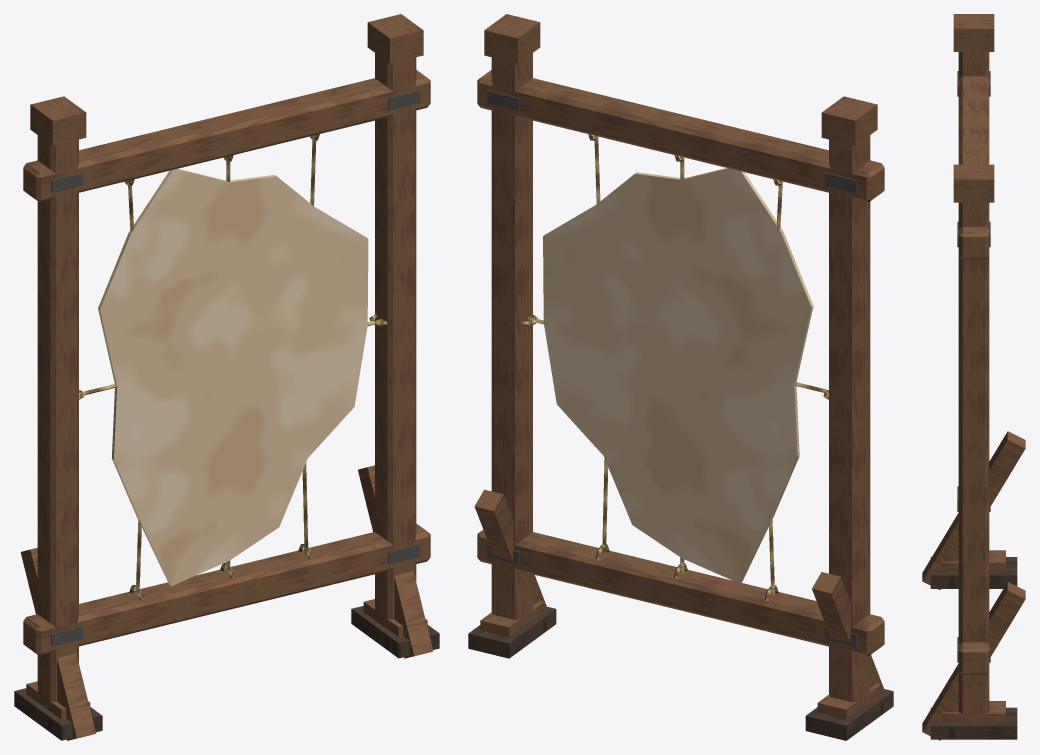
File: hide_stretching_rack.glb
3 views of the same model, side by side, from view 1: azimuth 30°, elevation 25°; view 2: azimuth 150°, elevation 25°; view 3: azimuth 270°, elevation 25° (orthographic). The views are drawn at different scales.
Parts seen in each view (by area): view 1: hide_stretching_rack_wooden_frame, hide_stretching_rack_hide_sheet, hide_stretching_rack_rope_ties; view 2: hide_stretching_rack_wooden_frame, hide_stretching_rack_hide_sheet, hide_stretching_rack_rope_ties; view 3: hide_stretching_rack_wooden_frame.
Boxes of the visible parts, x1,y1,x2,y2 form: hide_stretching_rack_wooden_frame: [14, 14, 439, 740]; hide_stretching_rack_hide_sheet: [98, 169, 368, 585]; hide_stretching_rack_rope_ties: [79, 134, 386, 600]; hide_stretching_rack_wooden_frame: [468, 14, 893, 740]; hide_stretching_rack_hide_sheet: [543, 168, 813, 583]; hide_stretching_rack_rope_ties: [521, 134, 828, 600]; hide_stretching_rack_wooden_frame: [922, 14, 1025, 740].
Size of what is drawn, in the model's own units: 1.64 by 2.45 by 0.4058.
Materials: 5 (5 with a texture image).
